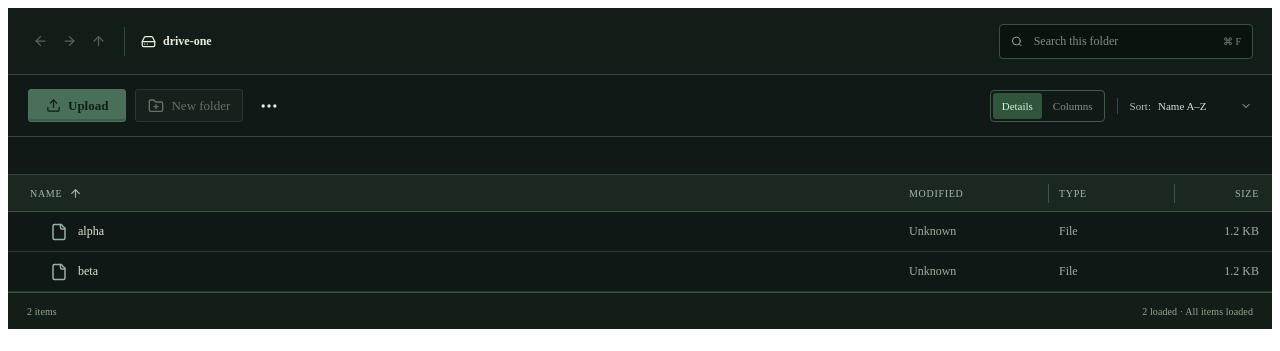
Test: stable selection and keyboard › retains stable selections through sorting but removes replaced revisions
Click the text "alpha" at (91, 232), box [78,224,104,239]
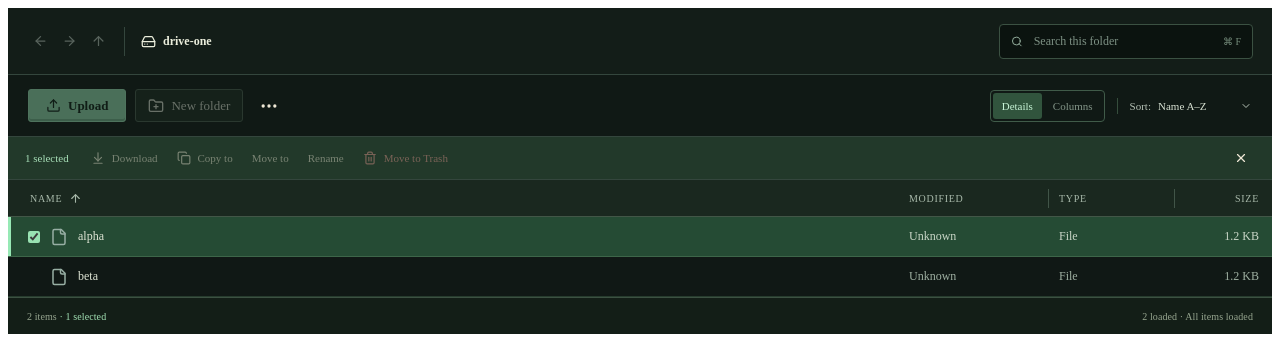
Click the button "Name" at (46, 198), box [30,180,883,216]
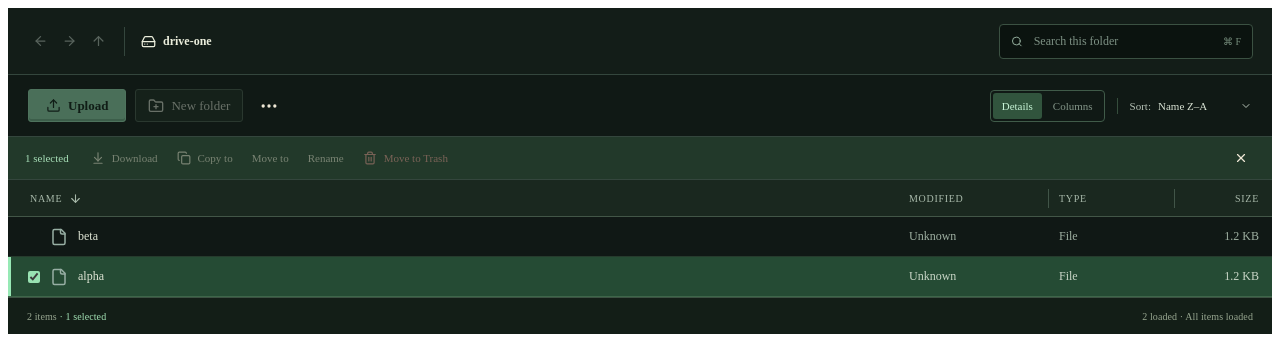
Expected: the text "alpha" is selected, [8,257,1272,297]
